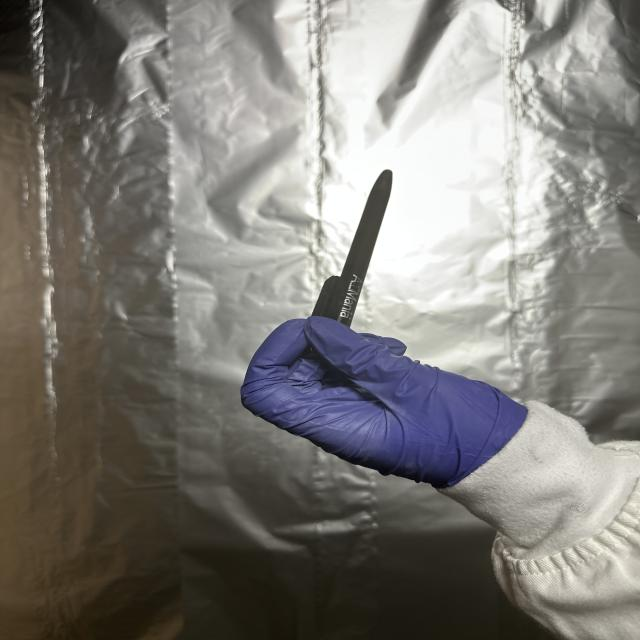gloves_contaminated: (242, 317, 528, 488)
